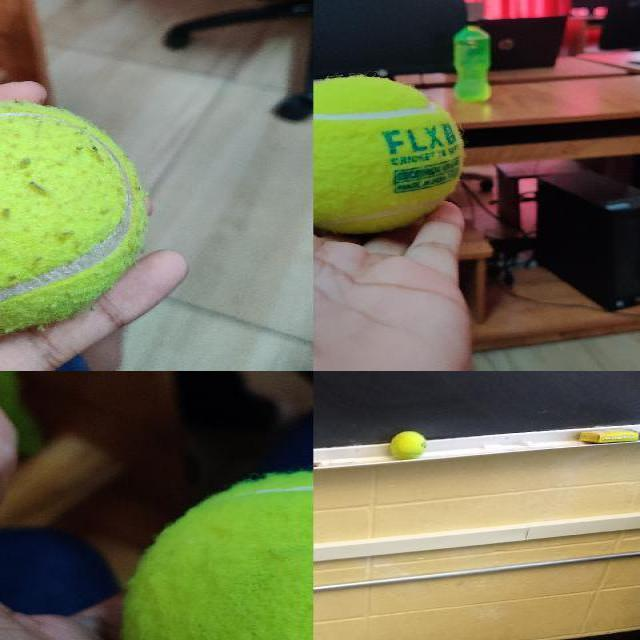tennis-ball: (0, 100, 148, 337), (124, 470, 312, 639), (313, 76, 463, 234), (389, 430, 427, 458)
